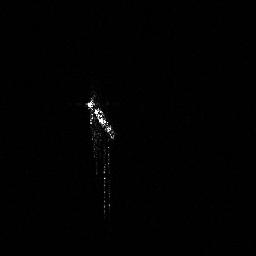ship: (82, 90, 120, 219)
